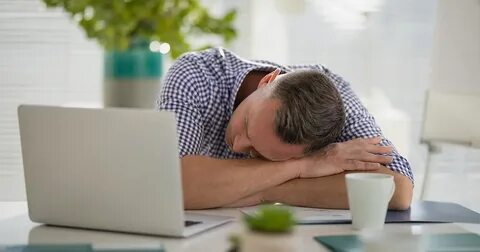sleep: (155, 46, 416, 213)
